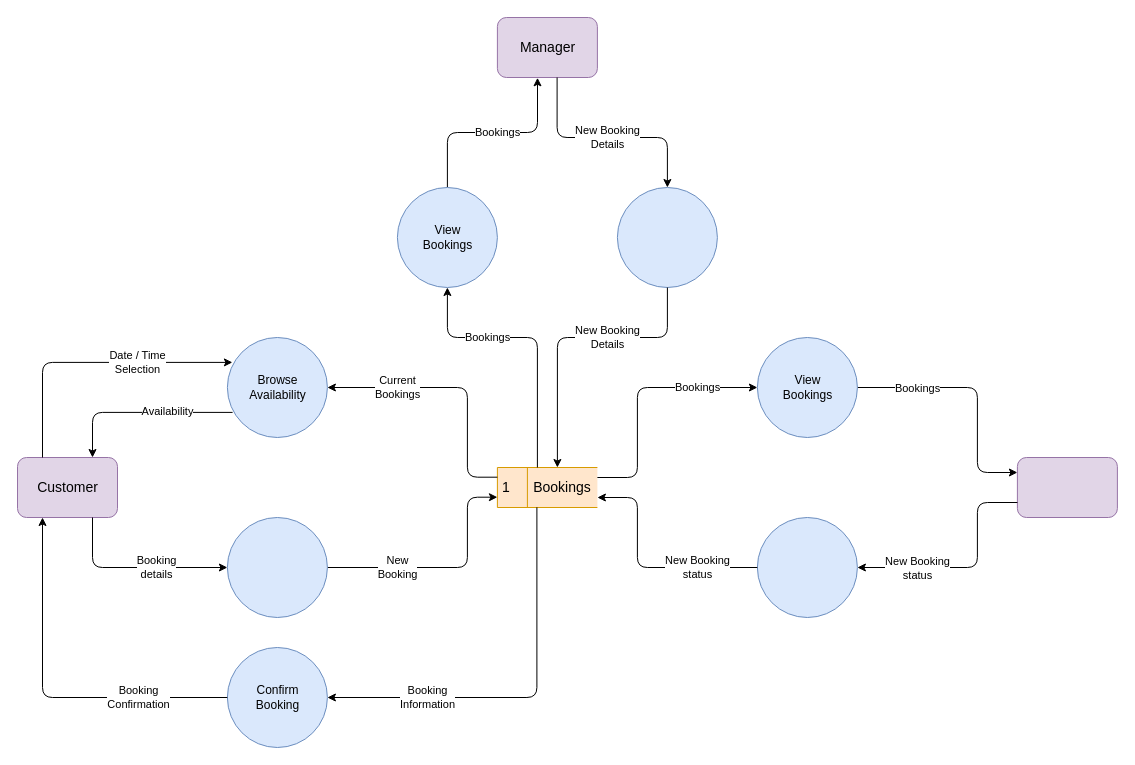
Some shapes in this 1135 by 765 pixel diagram are drawn without their labels. The shapes that lost their labels are listed below. From the top down, each one's centre as x and y in pixels, then its label:
the point at 666,237: Amend Booking
the point at 1066,487: Waiter
the point at 276,567: Make Booking
the point at 806,567: Seat Arrived Booking
